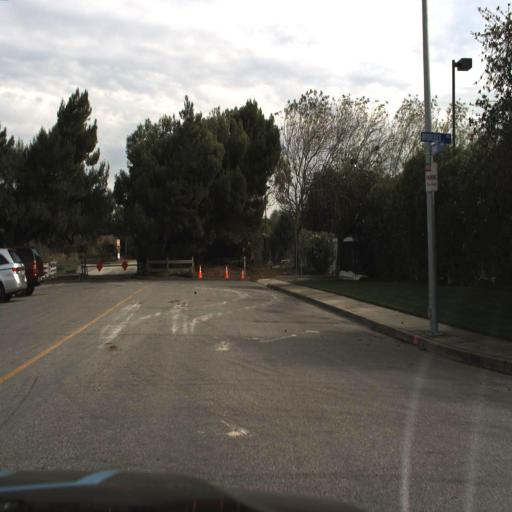car: (0, 246, 44, 297), (0, 249, 28, 303)
